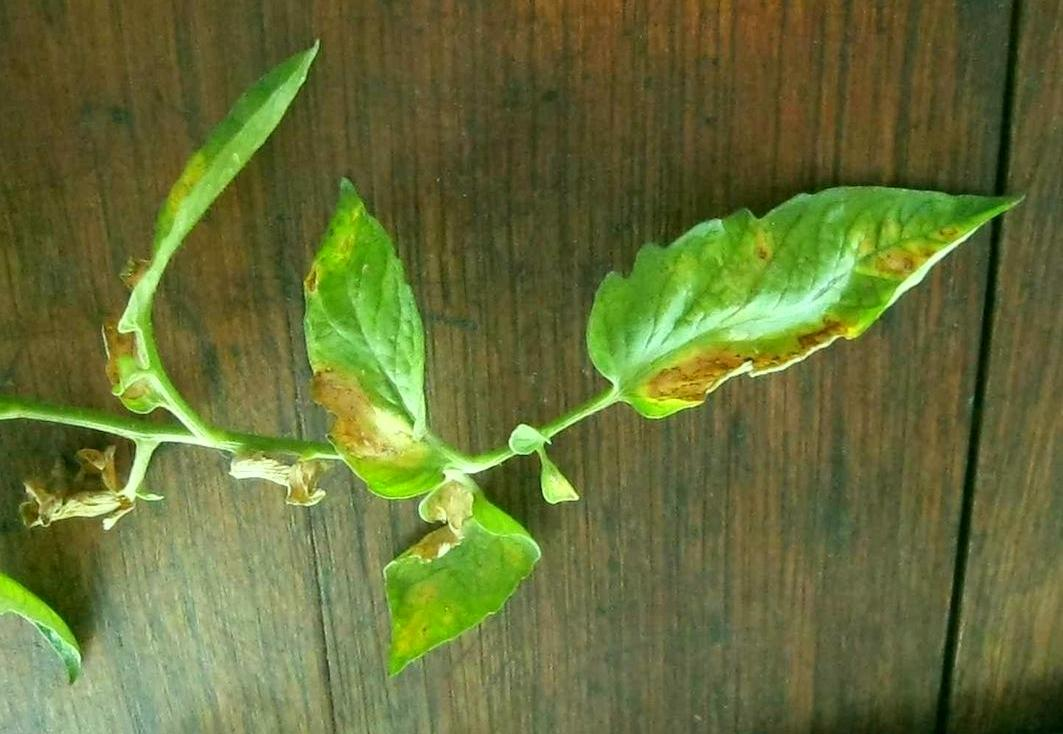Tomato Early blight leaf: (584, 163, 1020, 417), (298, 164, 454, 513)
